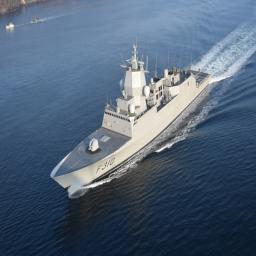Fragata: (50, 41, 214, 199)
